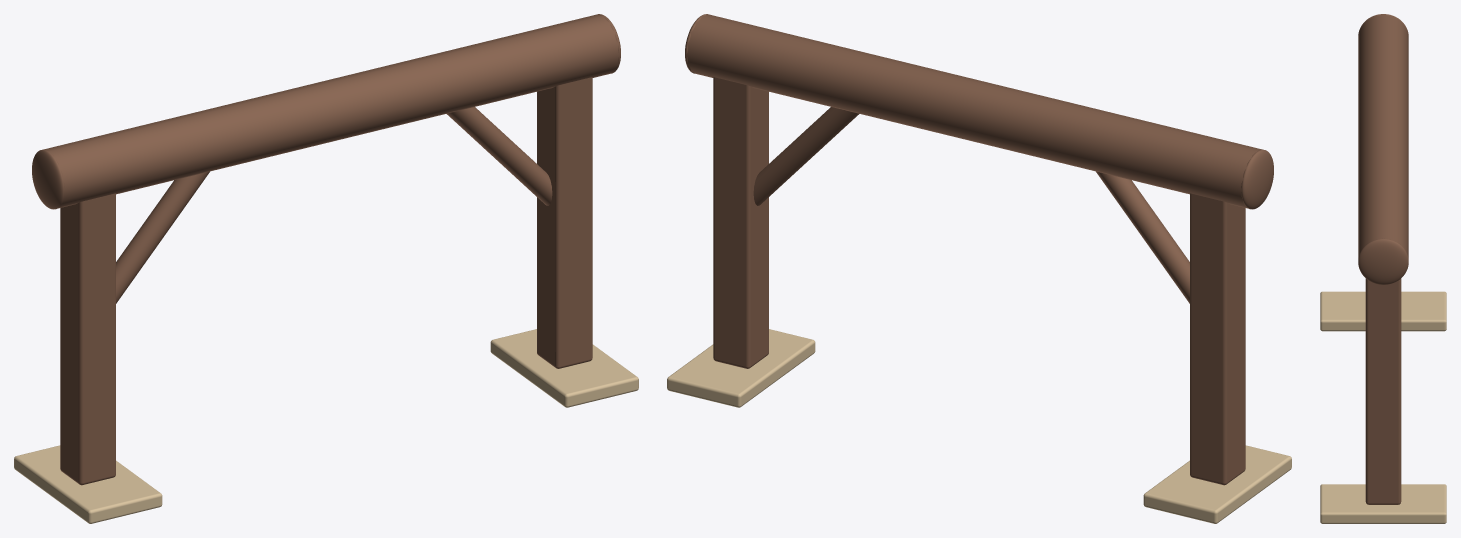
Rendered from griffin-airmail-roost-and-posthouse-roost-perch-beam-823f48c5__30500.glb.
3 renders of one model, left to right at view 1: azimuth 30°, elevation 25°; view 2: azimuth 150°, elevation 25°; view 3: azimuth 270°, elevation 25°, orthographic. The views are drawn at different scales.
Visible parts, largest first — view 1: roost-perch-beam; view 2: roost-perch-beam; view 3: roost-perch-beam.
Boxes of the visible parts, x1,y1,x2,y2 form: roost-perch-beam: (14, 14, 638, 523); roost-perch-beam: (667, 14, 1291, 523); roost-perch-beam: (1320, 14, 1446, 523).
Bounding box in the file's own units: 2.15 × 1.25 × 0.5.
